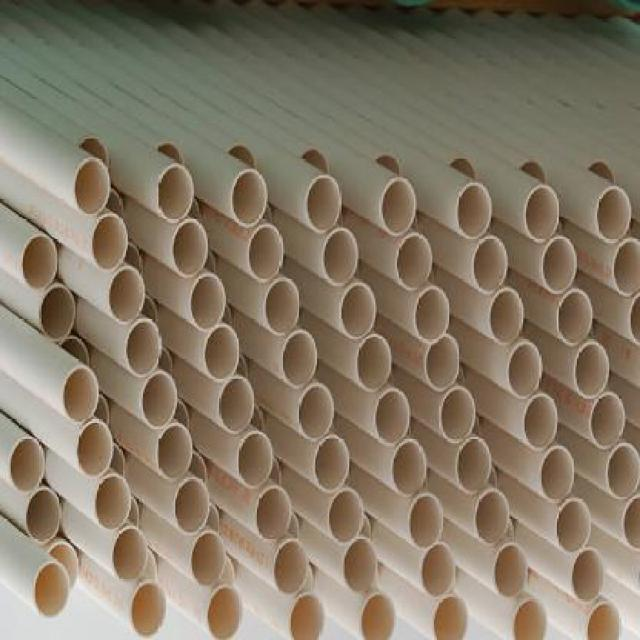pipe: (140, 371, 179, 430), (229, 168, 268, 227), (157, 162, 194, 224), (75, 420, 114, 478), (62, 365, 101, 423), (172, 477, 211, 535), (171, 220, 210, 277), (72, 157, 111, 214), (188, 529, 227, 586), (280, 328, 317, 388), (33, 560, 70, 620), (156, 423, 193, 482), (203, 323, 240, 382), (125, 318, 162, 377), (557, 288, 594, 347), (22, 231, 59, 290), (246, 223, 283, 282), (91, 212, 128, 271), (594, 186, 631, 245), (523, 185, 560, 244), (380, 177, 417, 236), (305, 174, 342, 233), (111, 525, 148, 584), (25, 486, 62, 545), (374, 388, 410, 448), (298, 380, 334, 440), (219, 376, 256, 434), (573, 340, 610, 398), (506, 340, 543, 398), (189, 273, 226, 331), (108, 265, 145, 323), (540, 443, 576, 502), (391, 438, 427, 497), (414, 286, 450, 345), (40, 283, 76, 342), (265, 277, 301, 336), (472, 235, 508, 294), (589, 393, 626, 450), (439, 386, 476, 443), (423, 334, 460, 391), (273, 539, 310, 596), (94, 473, 131, 530), (314, 434, 350, 492), (129, 581, 166, 637), (340, 283, 377, 339), (540, 237, 577, 293), (605, 442, 640, 501), (490, 286, 525, 345), (256, 483, 291, 542), (237, 431, 273, 488), (523, 393, 559, 450), (323, 228, 359, 285), (341, 537, 377, 594), (474, 489, 510, 546), (9, 437, 46, 492), (556, 497, 593, 552), (357, 333, 392, 391), (420, 543, 456, 599), (492, 541, 528, 597), (457, 180, 491, 239), (456, 437, 491, 494), (397, 234, 432, 291), (408, 494, 443, 551), (288, 591, 328, 640), (207, 583, 242, 639), (328, 490, 363, 545), (358, 591, 397, 640), (571, 546, 605, 602), (612, 237, 640, 296), (433, 596, 470, 639), (512, 597, 546, 640), (585, 602, 622, 640), (622, 493, 640, 551)
